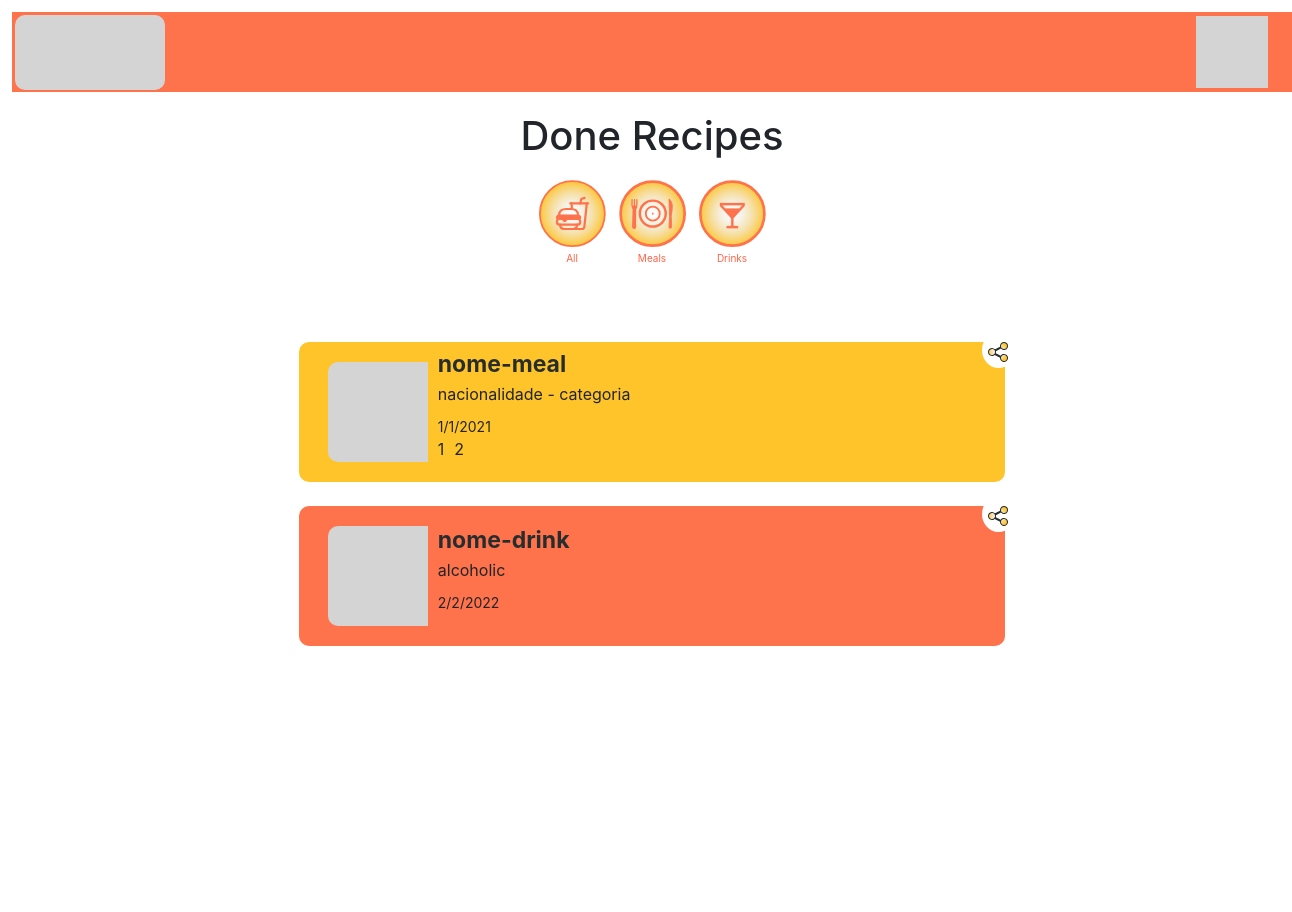
Test: Testes para o componente DoneRecipes › verifica se filtra corretamente as bebidas ao clicar no botão Drinks e retira o filtro ao clicar no mesmo botão
Expected: the text with test id "0-horizontal-name" reads "nome-meal", [438,350,566,378]
Step 1. Click the button with test id "filter-by-drink-btn" → (732, 223), box [692,178,772,268]
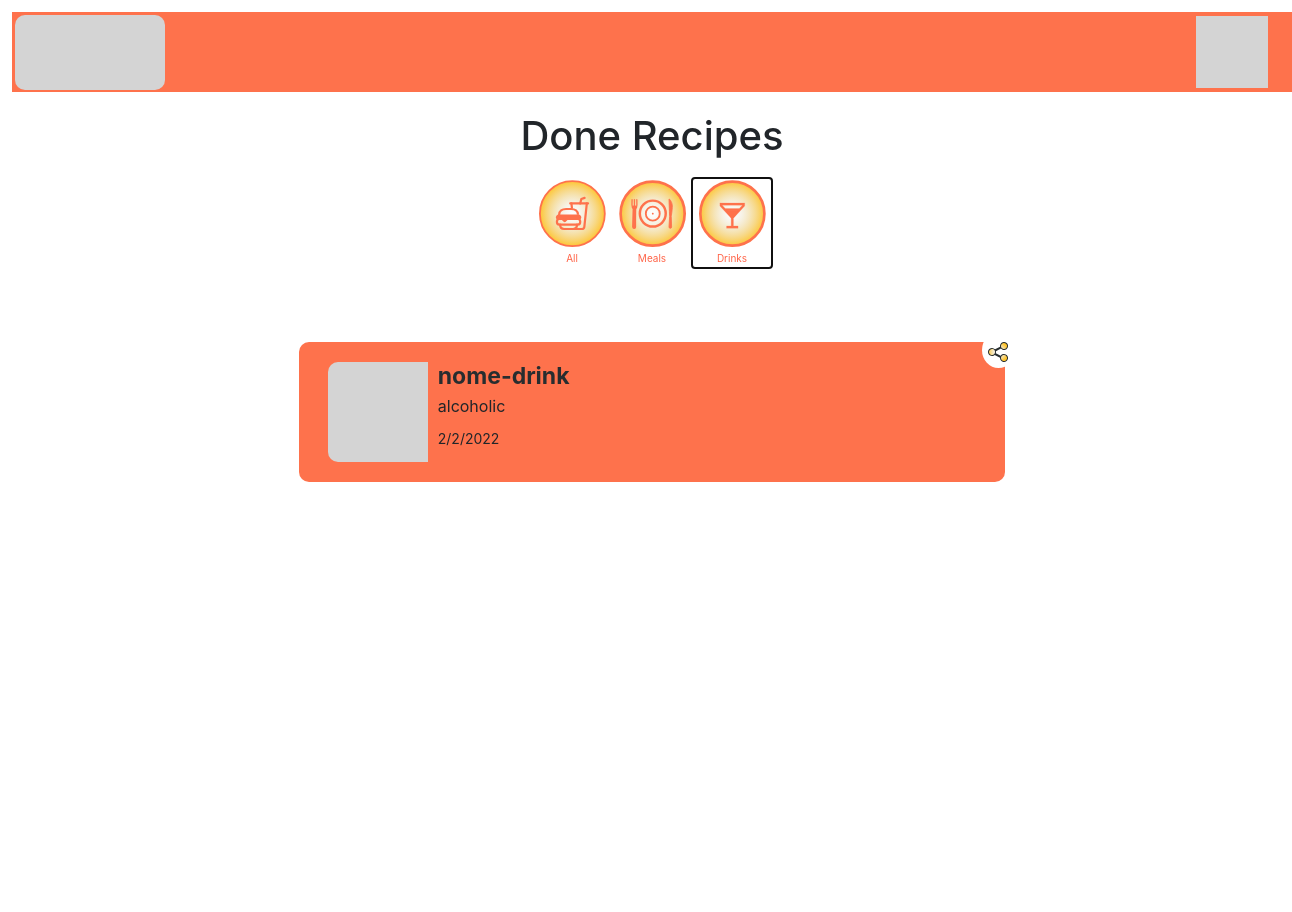
Step 2. Click the button with test id "filter-by-drink-btn" → (732, 223), box [692,178,772,268]
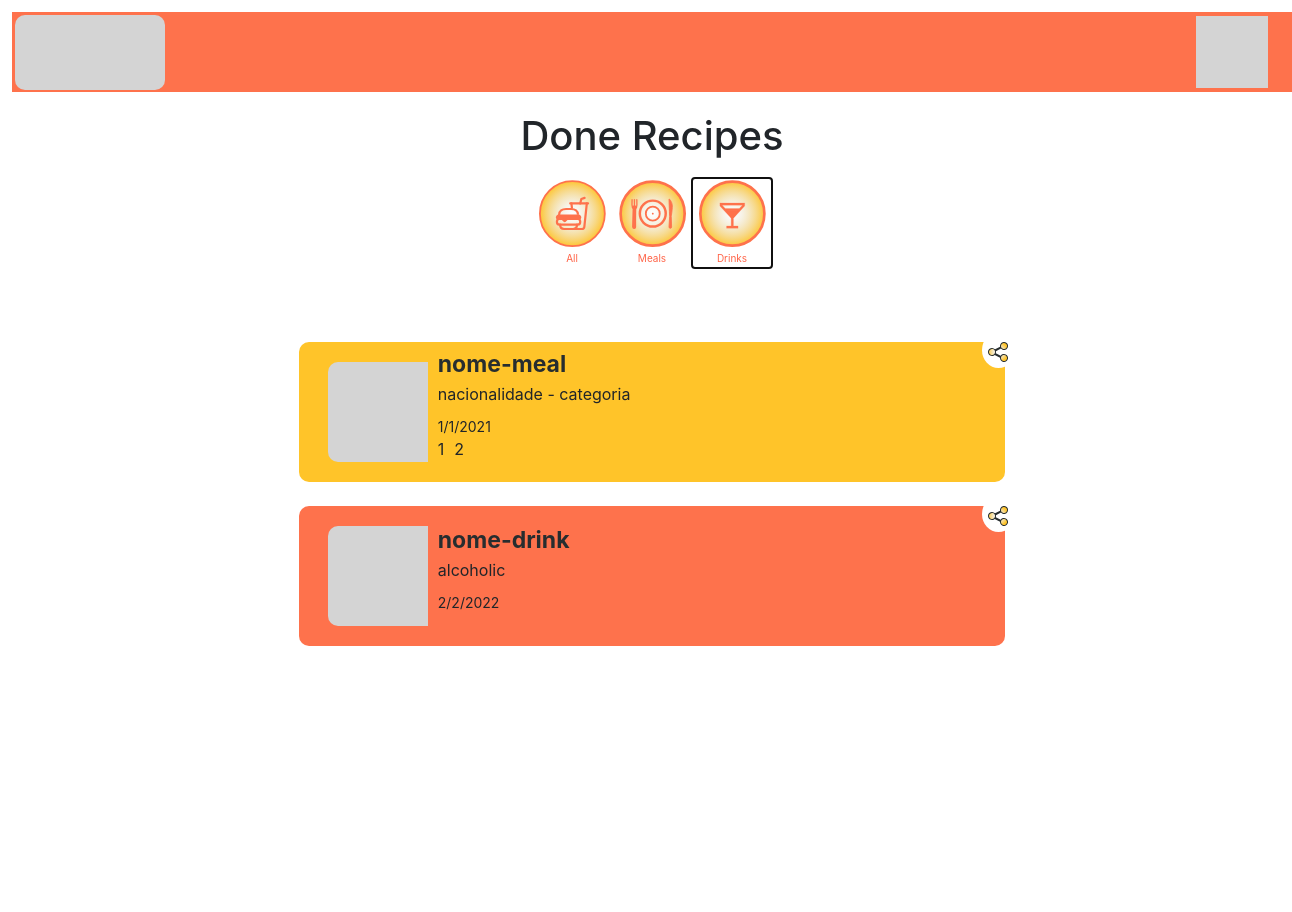
Expected: the text with test id "0-horizontal-name" reads "nome-meal", [438,350,566,378]
